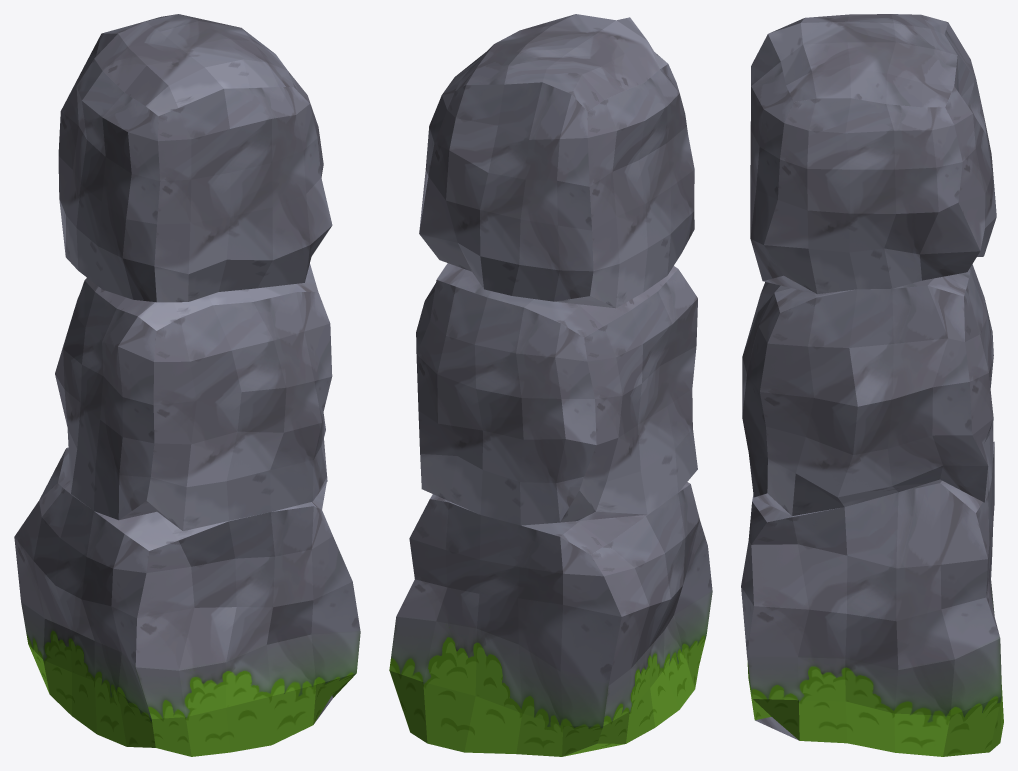
File: Rock_L.fbx
3 renders of one model, left to right at view 1: azimuth 30°, elevation 25°; view 2: azimuth 150°, elevation 25°; view 3: azimuth 270°, elevation 25°, orthographic.
Visible parts, largest first — view 1: Large_Rocks; view 2: Large_Rocks; view 3: Large_Rocks.
Boxes of the visible parts, x1,y1,x2,y2 form: Large_Rocks: (14, 14, 360, 756); Large_Rocks: (389, 14, 712, 756); Large_Rocks: (741, 14, 1003, 756).
Bounding box in the file's own units: 23.77 × 61.78 × 21.74.
Materials: 2 (2 with a texture image).
